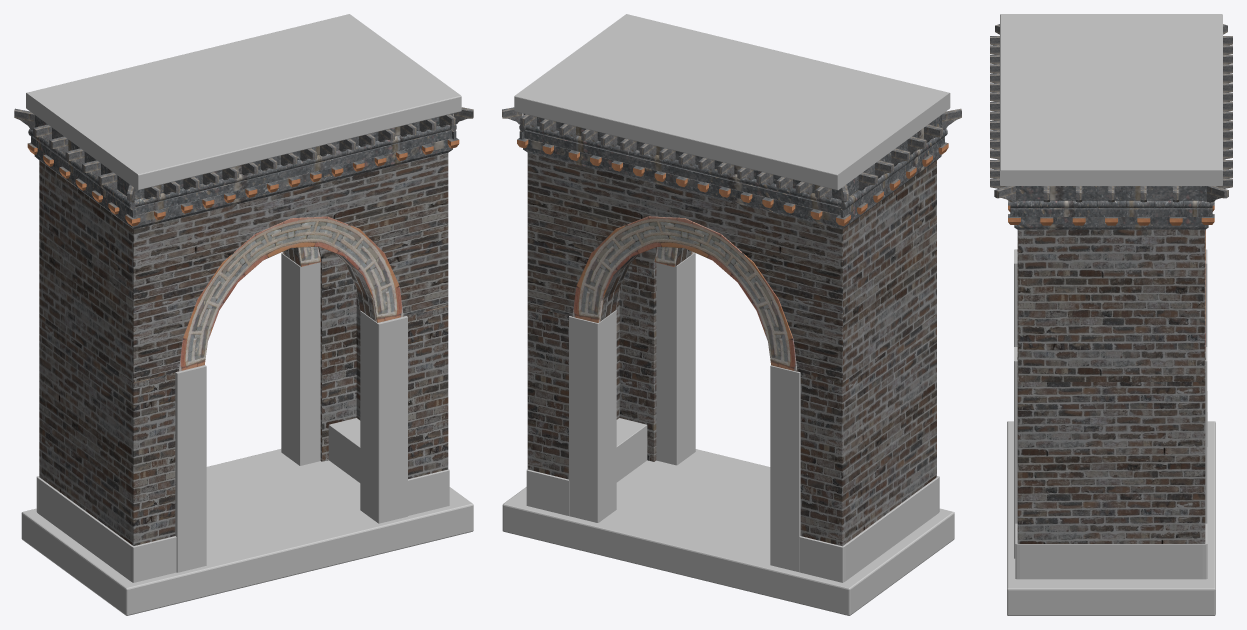
Rendered from SM_Outsidedoor01A.fbx.
The picture shows the model from 3 angles, left to right: view 1: azimuth 30°, elevation 25°; view 2: azimuth 150°, elevation 25°; view 3: azimuth 270°, elevation 25°; orthographic projection.
Parts seen in each view (by area): view 1: SM_Outsidedoor01A; view 2: SM_Outsidedoor01A; view 3: SM_Outsidedoor01A.
Part boxes in pixels (bbox=[...]): SM_Outsidedoor01A: bbox=[14, 14, 473, 615]; SM_Outsidedoor01A: bbox=[502, 14, 961, 615]; SM_Outsidedoor01A: bbox=[990, 14, 1232, 615].
Size of the model in its own units: 297 by 178 by 355.
